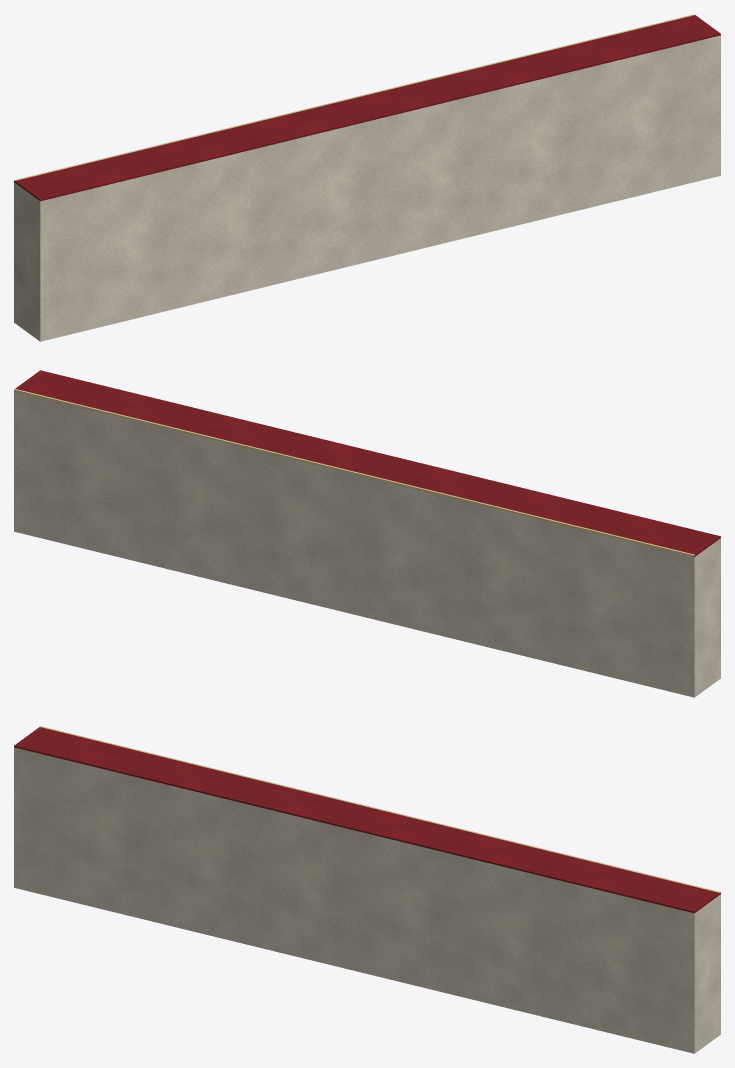
The model's file is tier_10.glb.
The picture shows the model from 3 angles, top to bottom: view 1: azimuth 30°, elevation 25°; view 2: azimuth 150°, elevation 25°; view 3: azimuth 330°, elevation 25°; orthographic projection.
Visible parts, largest first — view 1: tier_10_trim, tier_10_carpet, tier_10_gold; view 2: tier_10_trim, tier_10_carpet, tier_10_gold; view 3: tier_10_trim, tier_10_carpet, tier_10_gold.
Boxes of the visible parts, x1,y1,x2,y2 form: tier_10_trim: (14, 35, 720, 341); tier_10_carpet: (14, 15, 720, 201); tier_10_gold: (14, 14, 694, 180); tier_10_trim: (14, 391, 720, 697); tier_10_carpet: (15, 370, 720, 556); tier_10_gold: (14, 389, 694, 557); tier_10_trim: (14, 747, 720, 1053); tier_10_carpet: (14, 727, 720, 913); tier_10_gold: (40, 726, 720, 892).
Bounding box in the file's own units: 13.4 × 2.68 × 0.905.
3 materials, 2 textured.
